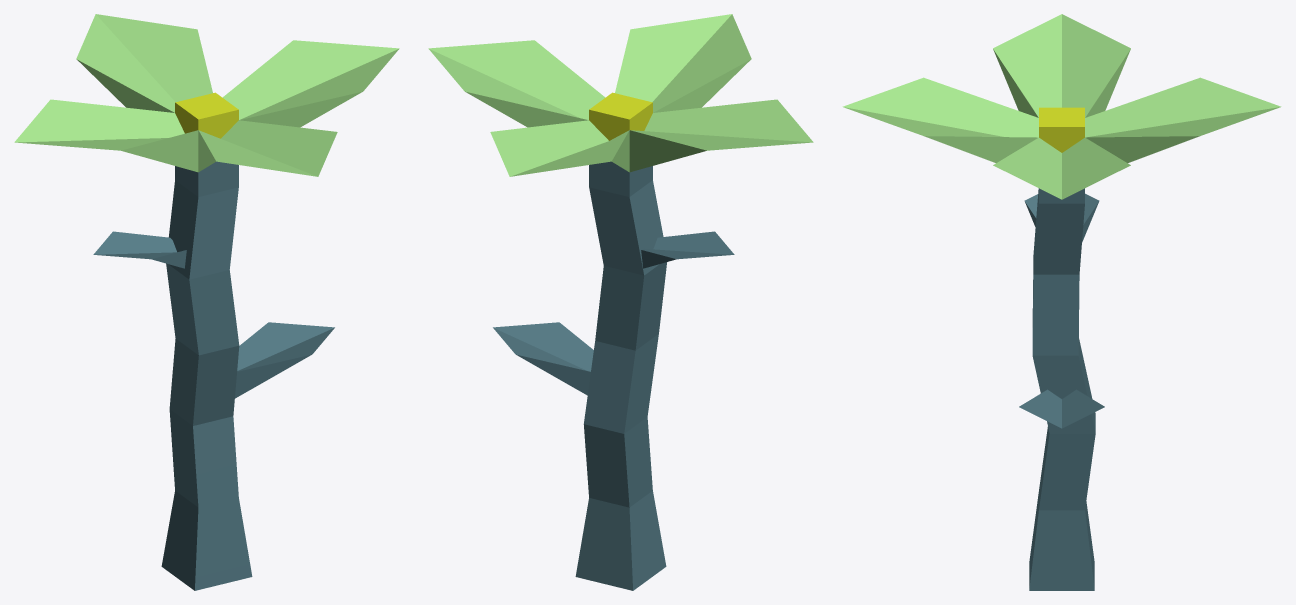
The model's file is Fleur1(un).fbx.
3 views of the same model, side by side, from view 1: azimuth 30°, elevation 25°; view 2: azimuth 150°, elevation 25°; view 3: azimuth 270°, elevation 25° (orthographic).
Visible parts, largest first — view 1: Cube, Cube.001, Cube.004, Cube.005, Cube.003; view 2: Cube, Cube.003, Cube.004, Cube.005, Cube.001; view 3: Cube, Cube.005, Cube.001, Cube.003, Cube.004.
Boxes of the visible parts, x1,y1,x2,y2 form: Cube: (93,92,334,590); Cube.001: (76,14,212,112); Cube.004: (222,40,399,127); Cube.005: (14,99,198,172); Cube.003: (198,120,337,176); Cube: (493,92,734,590); Cube.003: (615,14,751,112); Cube.004: (428,40,605,127); Cube.005: (629,99,813,172); Cube.001: (490,120,629,176); Cube: (1019,107,1104,590); Cube.005: (993,14,1130,117); Cube.001: (1085,77,1281,162); Cube.003: (842,77,1038,162); Cube.004: (993,137,1130,199).
Bounding box in the file's own units: 1906 × 2250 × 1906.
